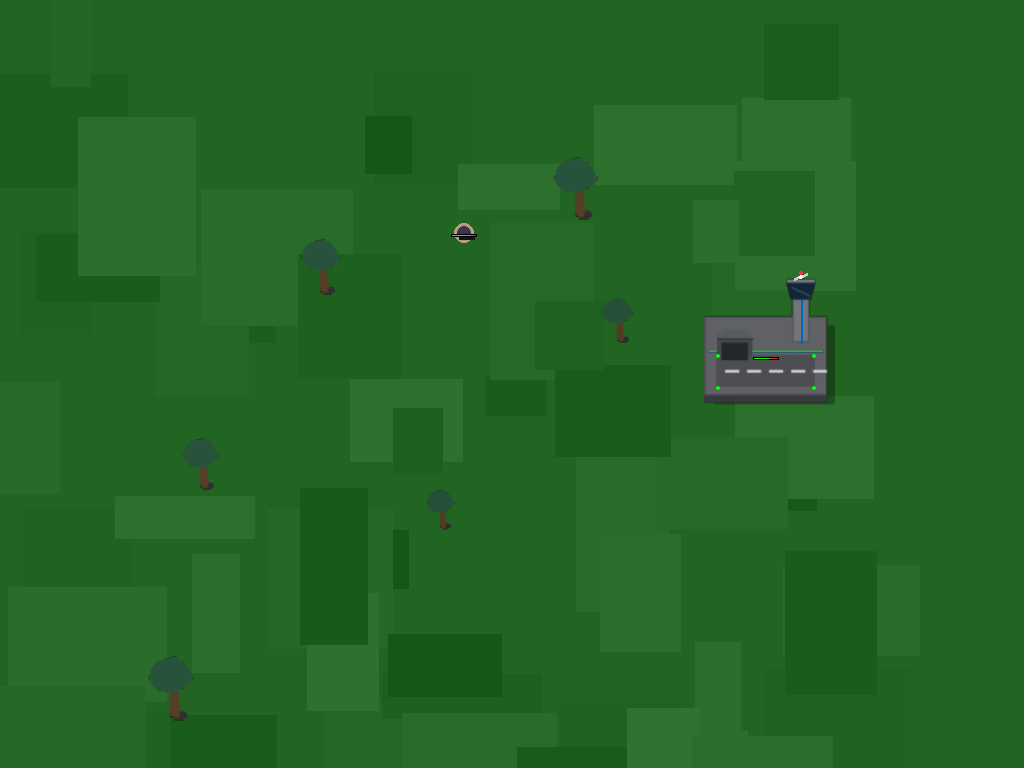Airfield: (708, 298, 804, 415)
RocketTrooper: (446, 215, 480, 249)
